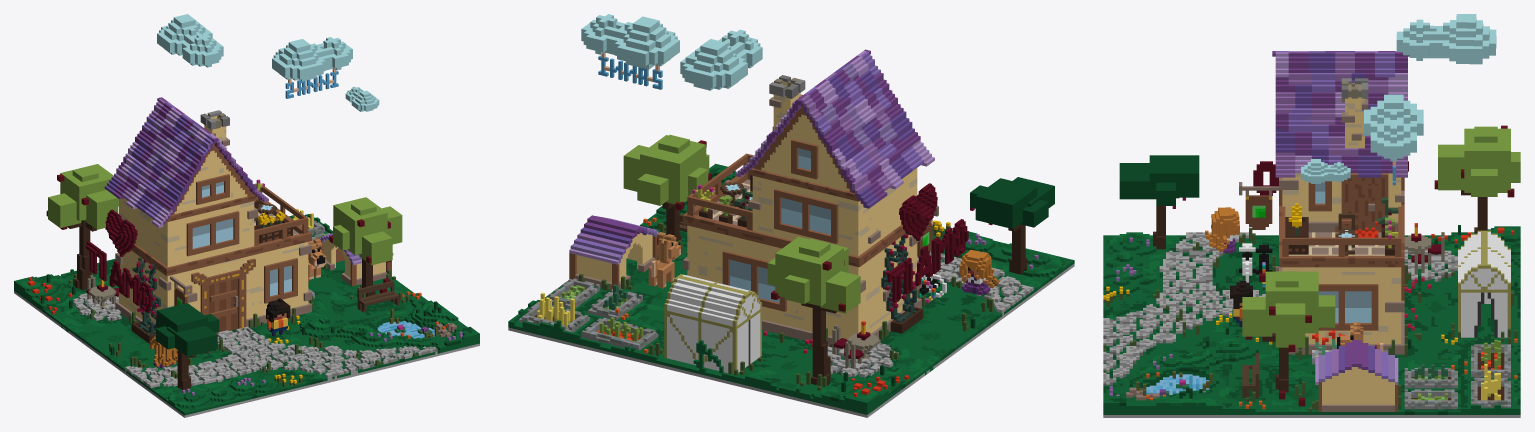
File: love.gltf
The picture shows the model from 3 angles, left to right: view 1: azimuth 30°, elevation 25°; view 2: azimuth 150°, elevation 25°; view 3: azimuth 270°, elevation 25°; orthographic projection. The views are drawn at different scales.
Visible parts, largest first — view 1: love-grouped-6, love-grouped-8, love-grouped-7, love-grouped-5, love-grouped-4, love-grouped-1, love-grouped-2, love-grouped-0; view 2: love-grouped-6, love-grouped-7, love-grouped-8, love-grouped-5, love-grouped-0, love-grouped-2, love-grouped-4; view 3: love-grouped-6, love-grouped-8, love-grouped-5, love-grouped-0, love-grouped-7, love-grouped-1, love-grouped-2.
Boxes of the visible parts, x1,y1,x2,y2 form: love-grouped-6: (14, 97, 479, 417); love-grouped-8: (272, 37, 379, 111); love-grouped-7: (85, 209, 152, 312); love-grouped-5: (157, 14, 223, 67); love-grouped-4: (285, 68, 338, 98); love-grouped-1: (266, 298, 290, 336); love-grouped-2: (308, 238, 326, 279); love-grouped-0: (150, 334, 177, 367); love-grouped-6: (508, 49, 1074, 417); love-grouped-7: (887, 183, 968, 302); love-grouped-8: (581, 14, 679, 69); love-grouped-5: (680, 29, 762, 90); love-grouped-0: (959, 249, 998, 294); love-grouped-2: (648, 232, 680, 288); love-grouped-4: (598, 52, 662, 89); love-grouped-6: (1103, 51, 1520, 417); love-grouped-8: (1301, 94, 1423, 183); love-grouped-5: (1396, 14, 1496, 64); love-grouped-0: (1205, 207, 1239, 253); love-grouped-7: (1253, 161, 1408, 195); love-grouped-1: (1230, 281, 1252, 327); love-grouped-2: (1337, 322, 1383, 351).
Size of the model in its own units: 126 by 104 by 126.
Materials: 8 (8 with a texture image).
